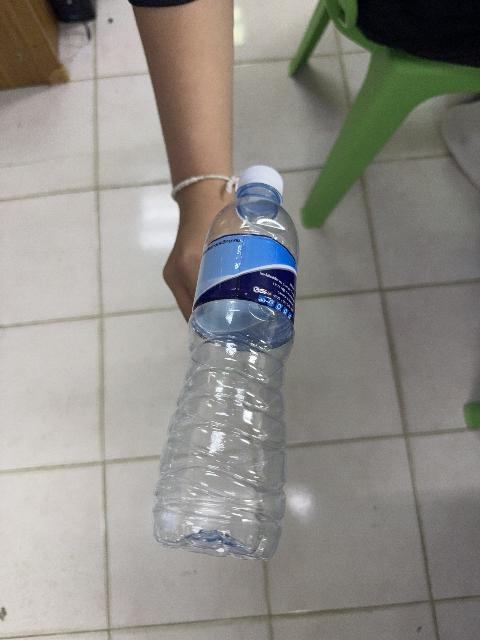bottle: (154, 166, 298, 559)
